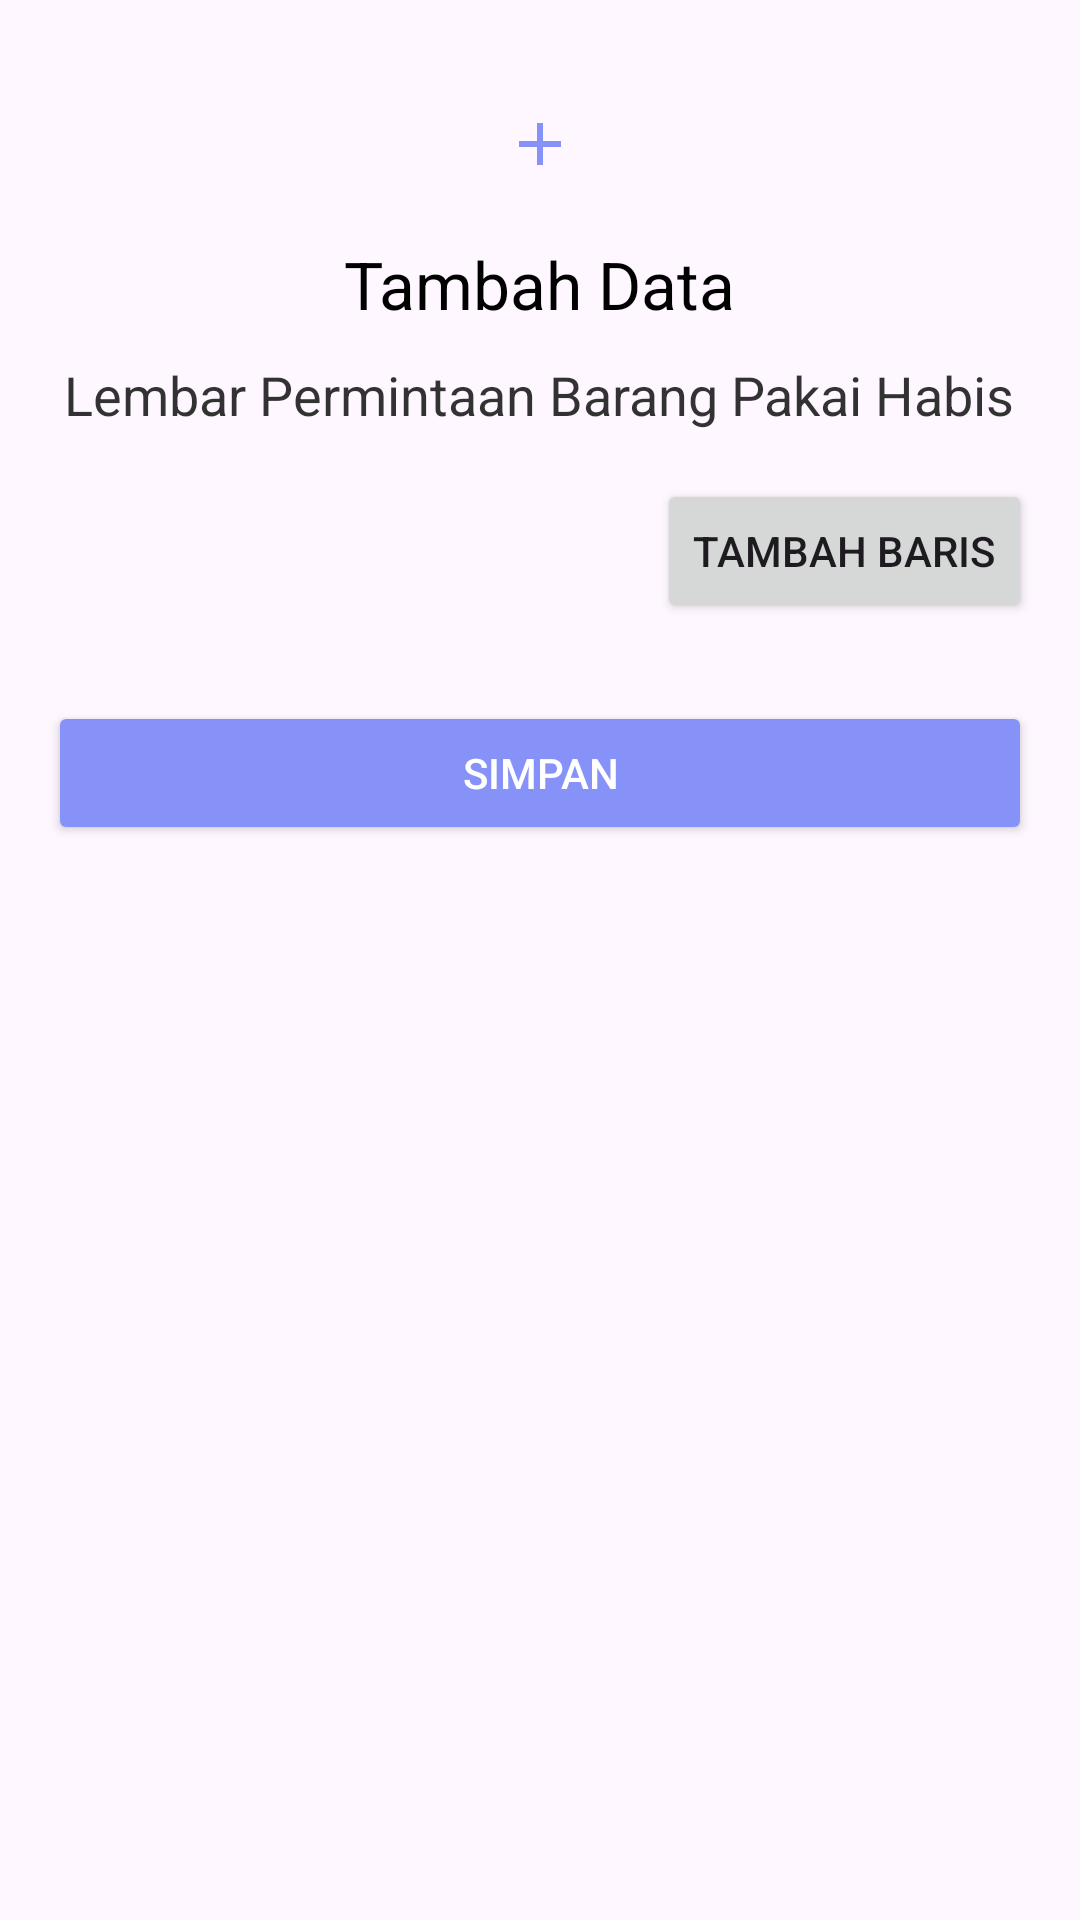

Named icons in this screenshot (1080×1920) and their centers, (x=x, y=y):
add: (x=540, y=144)
